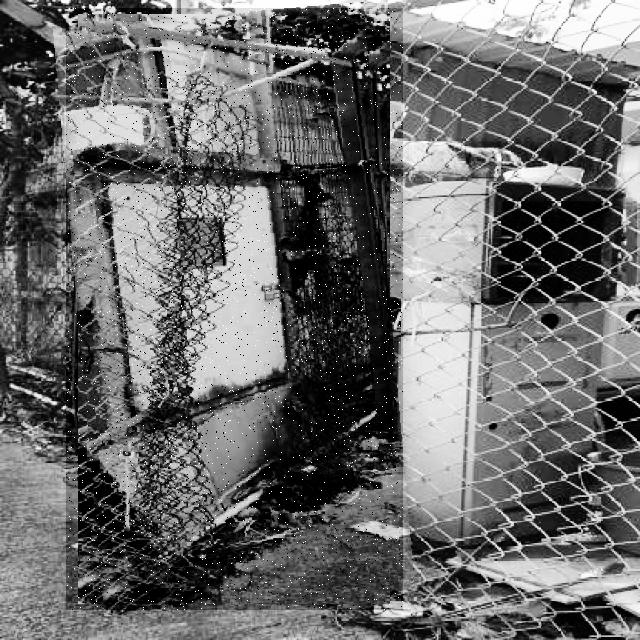anomaly-fence: (66, 8, 403, 610)
